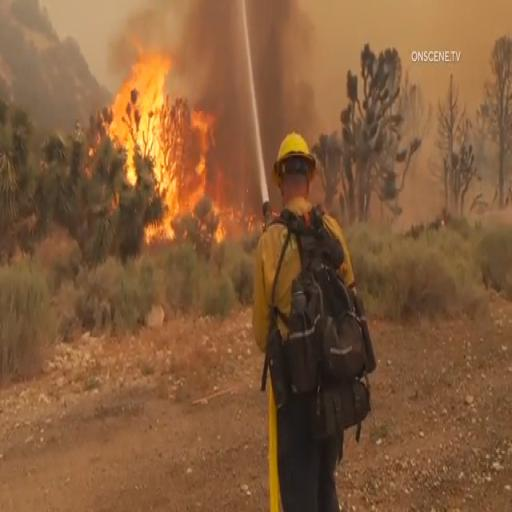fire: (114, 32, 192, 266)
